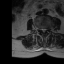CCS_stenosis: (43, 26, 45, 36)
LFS_severe_stenosis: (46, 26, 48, 32)
LLS_stenosis: (45, 26, 46, 33)
RFS_stenosis: (39, 26, 41, 33)
RLS_stenosis: (41, 26, 43, 33)
